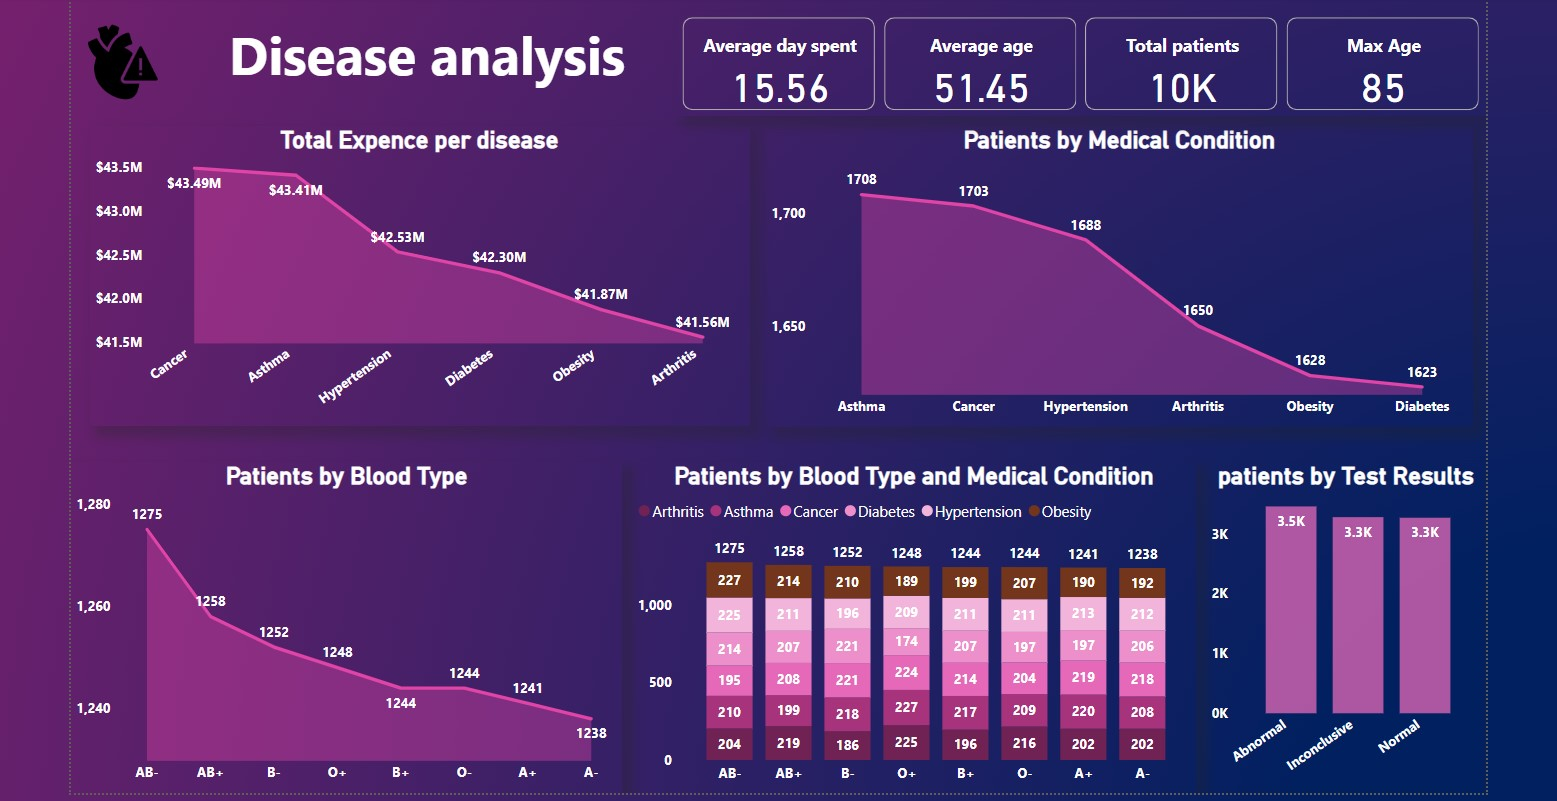

Layout of this report page (visuals, bound fields, positions):
{"tool":"powerbi","page":{"name":"disease analysis","canvas":[1280,720],"ordinal":1},"visuals":[{"type":"areaChart","title":"Total Expence per disease","fields":{"Category":["healthcare_dataset.Medical Condition"],"Y":["Sum(healthcare_dataset.Billing Amount)"]},"box":[17.4,116.3,596.5,272.1],"z":0},{"type":"columnChart","title":"patients by Test Results","fields":{"Category":["healthcare_dataset.Test Results"],"Y":["CountNonNull(healthcare_dataset.ID)"]},"box":[1026.8,420.5,253,299.5],"z":1000},{"type":"areaChart","title":"Patients by Blood Type","fields":{"Category":["healthcare_dataset.Blood Type"],"Y":["CountNonNull(healthcare_dataset.ID)"]},"box":[0,420.5,498.7,299.5],"z":2000},{"type":"areaChart","title":"Patients by Medical Condition","fields":{"Category":["healthcare_dataset.Medical Condition"],"Y":["CountNonNull(healthcare_dataset.ID)"]},"box":[628.3,116.1,639.3,272.6],"z":3000},{"type":"cardVisual","fields":{"Data":["healthcare_dataset.Average day spent","healthcare_dataset.Average age","healthcare_dataset.Total patients","healthcare_dataset.Max Age"]},"box":[548.9,13.4,731,94.1],"z":4000},{"type":"columnChart","title":"Patients by Blood Type and Medical Condition","fields":{"Category":["healthcare_dataset.Blood Type"],"Y":["CountNonNull(healthcare_dataset.ID)"],"Series":["healthcare_dataset.Medical Condition"]},"box":[507.3,420.5,509.7,299.5],"z":5000},{"type":"textbox","box":[138.1,13.4,394.8,112.5],"z":6000},{"type":"image","box":[0,13.4,92.9,90.5],"z":7000}]}

Visuals, with their boxes on the page's 1280x720 design canvas (x1, y1, x2, y2). These are canvas units, not pixel positions in the 1557x801 screenshot, which may show the page scaled, cropped or inside an application window:
"Total Expence per disease" areaChart: [left=17, top=116, right=614, bottom=388]
"patients by Test Results" columnChart: [left=1027, top=420, right=1280, bottom=720]
"Patients by Blood Type" areaChart: [left=0, top=420, right=499, bottom=720]
"Patients by Medical Condition" areaChart: [left=628, top=116, right=1268, bottom=389]
cardVisual - healthcare_dataset.Average day spent x healthcare_dataset.Average age: [left=549, top=13, right=1280, bottom=108]
"Patients by Blood Type and Medical Condition" columnChart: [left=507, top=420, right=1017, bottom=720]
textbox: [left=138, top=13, right=533, bottom=126]
image: [left=0, top=13, right=93, bottom=104]
